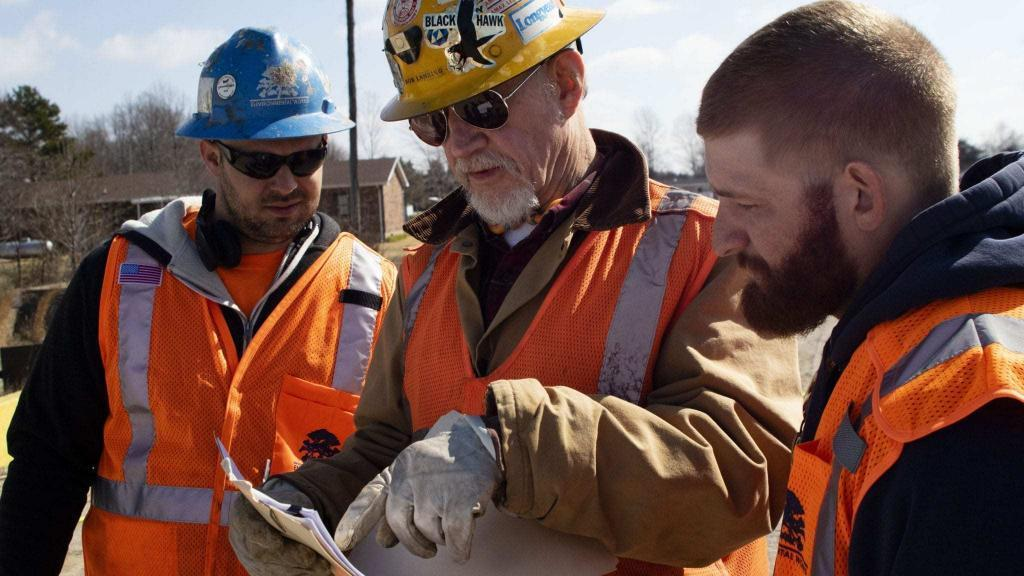helmet: (380, 1, 609, 124), (175, 25, 360, 144)
